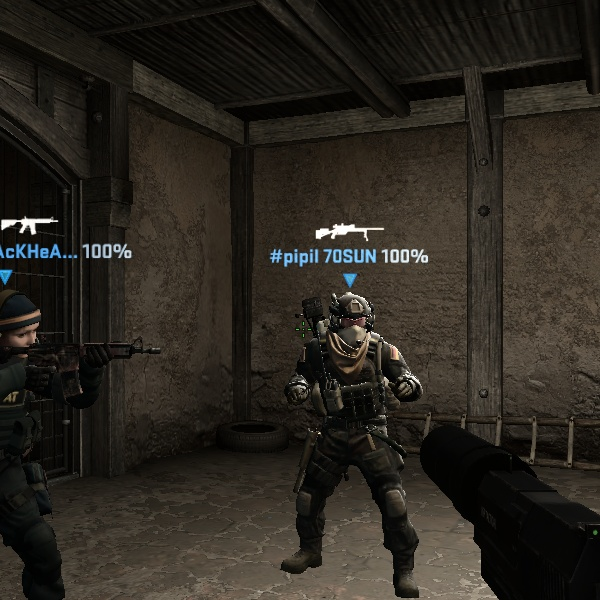ct_body: (266, 284, 436, 587)
ct_head: (311, 287, 381, 353)
